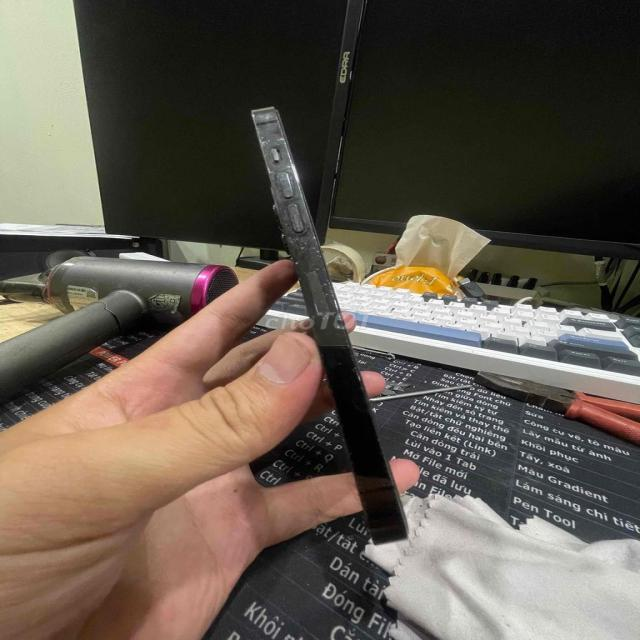gen_12_13: (238, 100, 423, 551)
